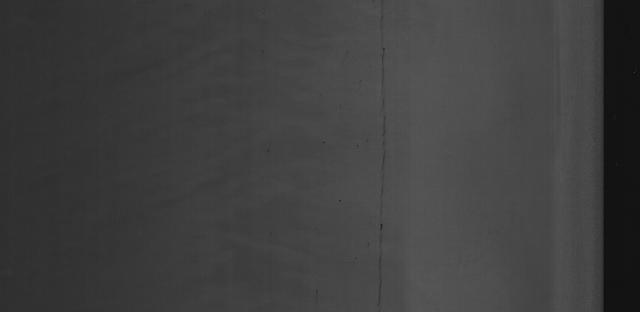inclusion: (369, 7, 394, 303)
